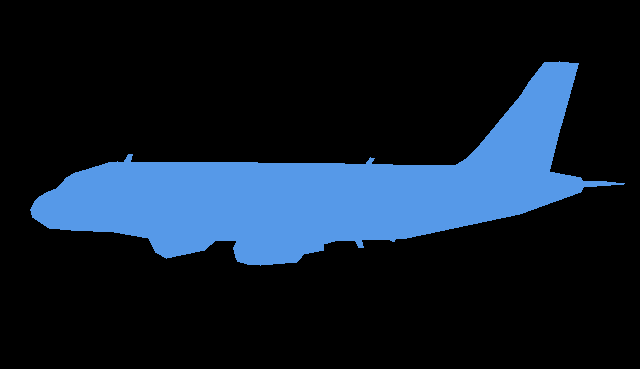Airplane: (30, 61, 625, 265)
